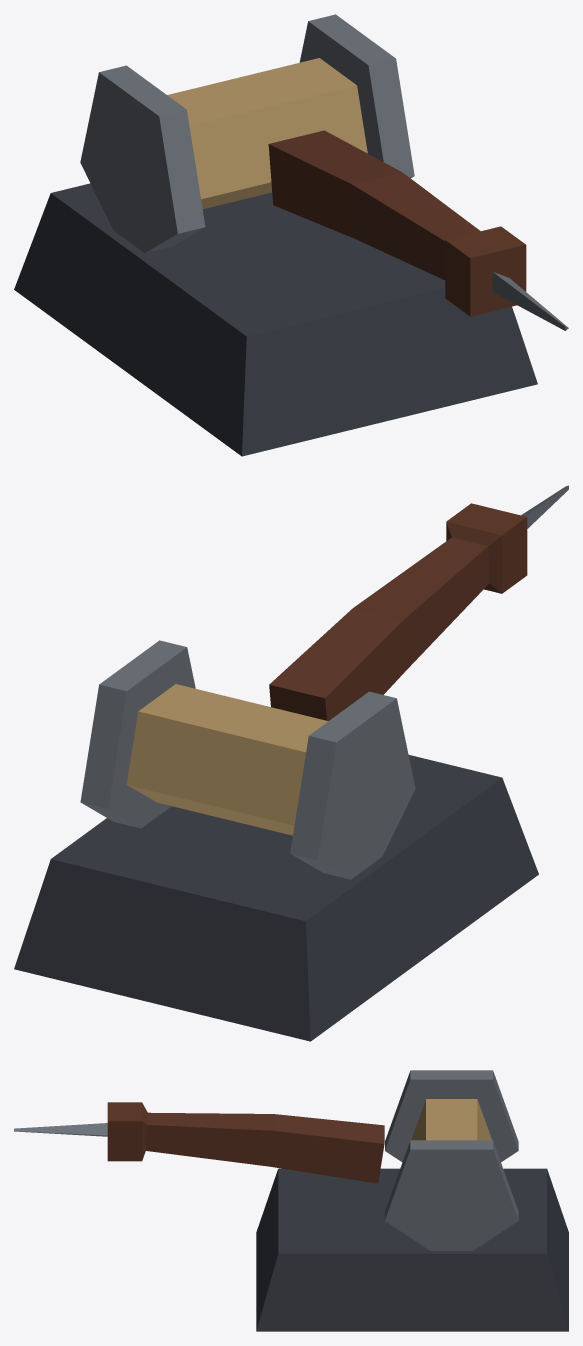
File: SM_Prop_HarpoonWinch_LQ.glb
The picture shows the model from 3 angles, top to bottom: view 1: azimuth 30°, elevation 25°; view 2: azimuth 150°, elevation 25°; view 3: azimuth 270°, elevation 25°; orthographic projection. The views are drawn at different scales.
Visible parts, largest first — view 1: SM_Prop_HarpoonWinch_LQ; view 2: SM_Prop_HarpoonWinch_LQ; view 3: SM_Prop_HarpoonWinch_LQ.
Boxes of the visible parts, left/top/right/bottom form: SM_Prop_HarpoonWinch_LQ: left=14, top=14, right=568, bottom=456; SM_Prop_HarpoonWinch_LQ: left=14, top=485, right=568, bottom=1041; SM_Prop_HarpoonWinch_LQ: left=14, top=1070, right=568, bottom=1331.
Bounding box in the file's own units: 1.5 × 1.21 × 3.55.
Materials: 1 (1 with a texture image).
